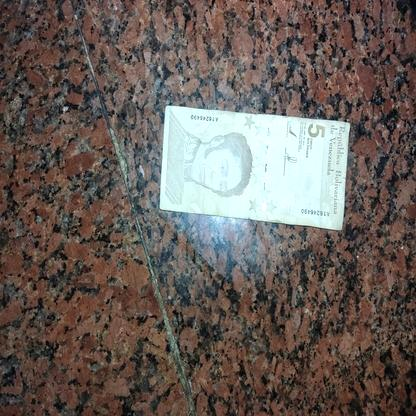five-front-vef: (158, 104, 350, 229)
